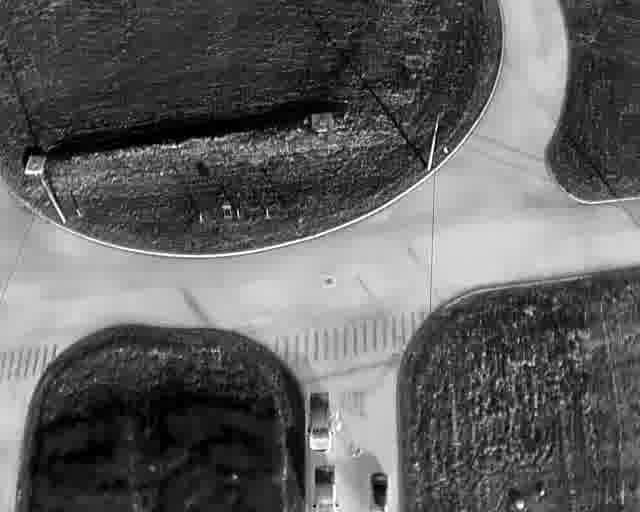car: (306, 391, 332, 450), (311, 463, 336, 512), (369, 471, 388, 512)
person: (355, 444, 362, 460), (334, 407, 341, 422), (348, 444, 354, 459), (336, 417, 342, 432), (330, 419, 336, 434)
